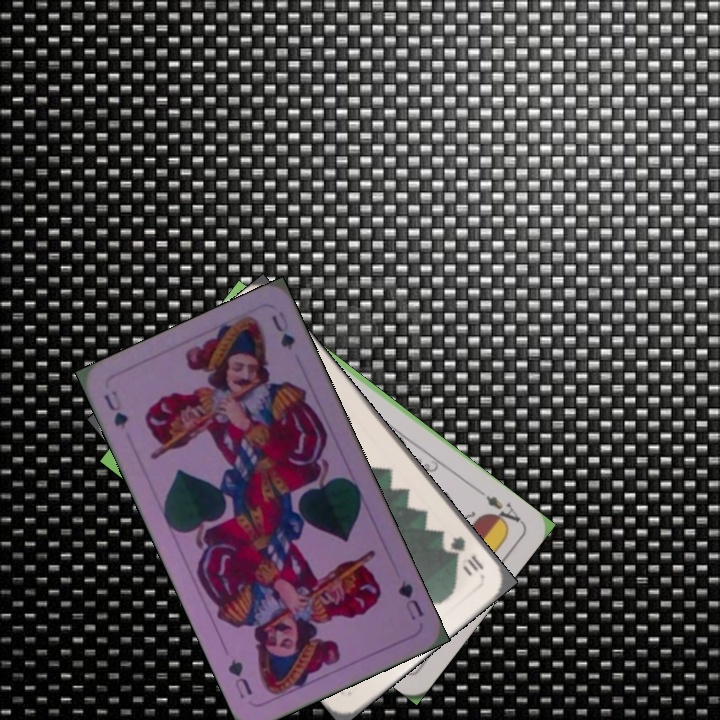EA: (481, 492, 524, 530)
G10: (446, 532, 487, 574)
GU: (393, 576, 427, 623), (100, 386, 131, 432)
